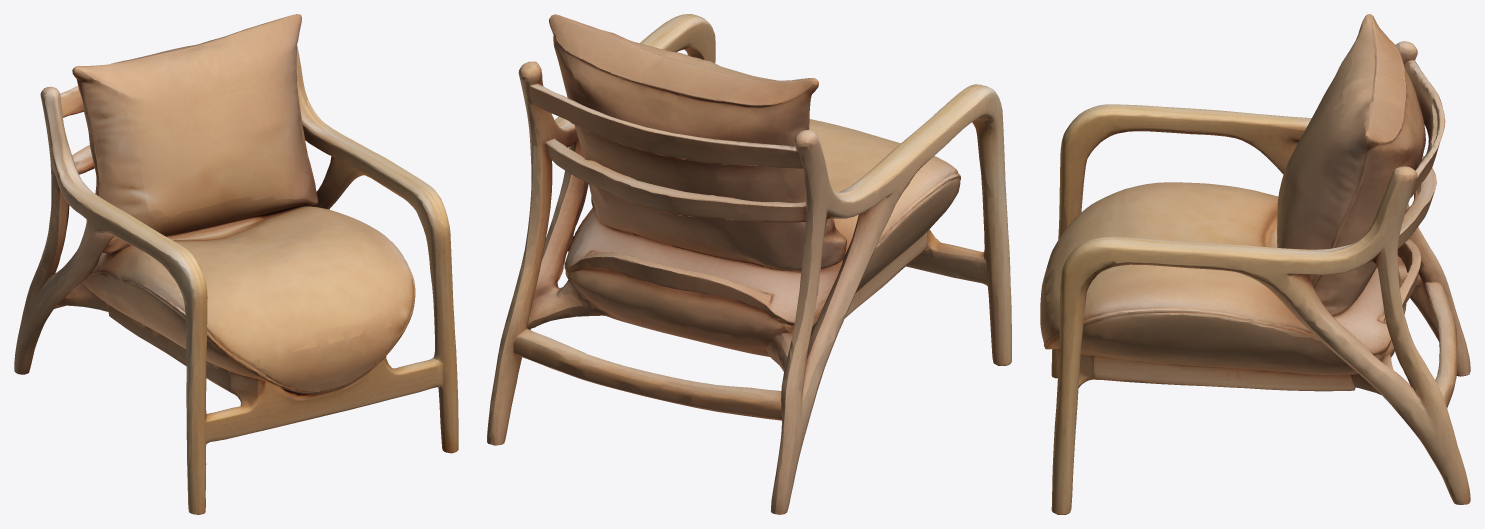
The model's file is SILLON ZUR PIEL ROJA.glb.
3 renders of one model, left to right at view 1: azimuth 30°, elevation 25°; view 2: azimuth 150°, elevation 25°; view 3: azimuth 270°, elevation 25°, orthographic. The views are drawn at different scales.
Parts seen in each view (by area): view 1: geometry_0; view 2: geometry_0; view 3: geometry_0.
Part boxes in pixels (left/top/right/bottom): geometry_0: left=14, top=14, right=458, bottom=514; geometry_0: left=487, top=14, right=1011, bottom=514; geometry_0: left=1040, top=14, right=1470, bottom=514.
Bounding box in the file's own units: 0.69 × 0.82 × 0.86.
1 material, 1 textured.
